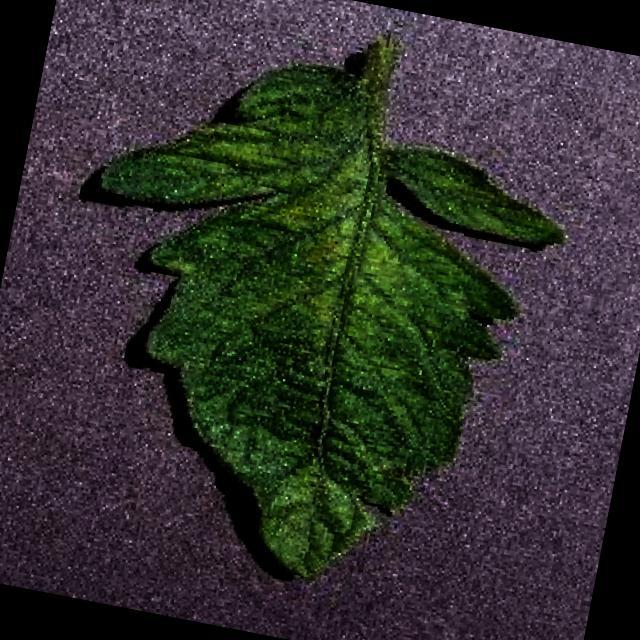Tomato mosaic virus leaf: (29, 25, 594, 624)
